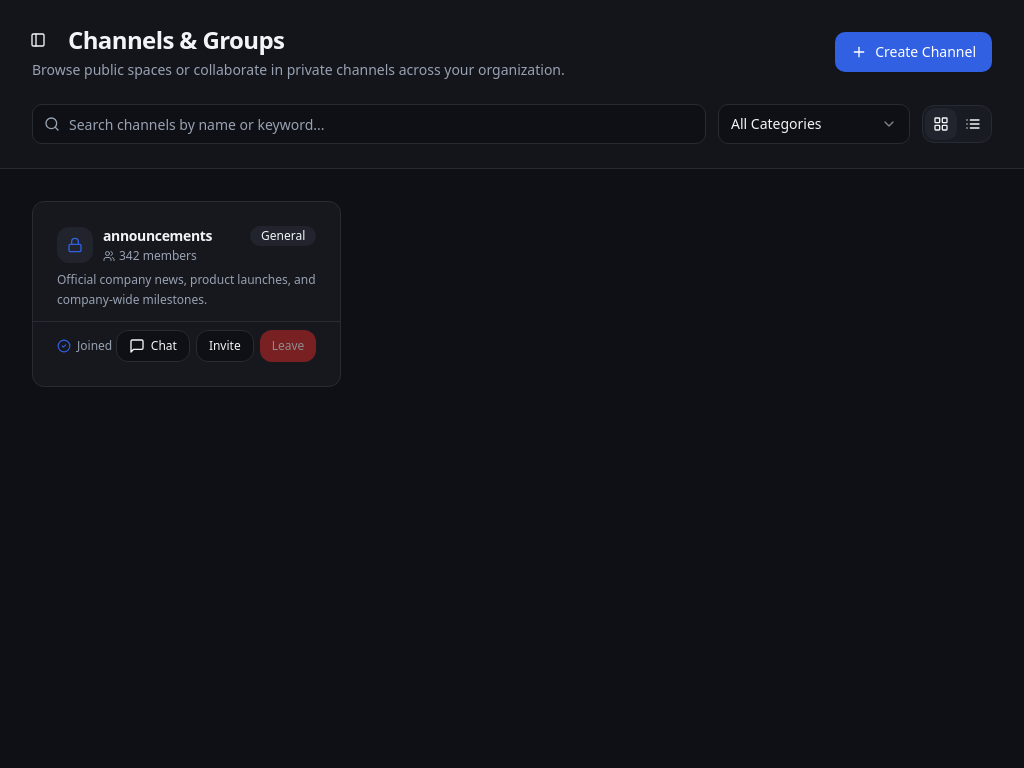
Test: Channels and navigation › offers owner invitations and disables owner leave
Expected: the button "Leave" is disabled, 260,330 -> 316,362
Click the button "Invite": (225,346) 196,330 -> 254,362
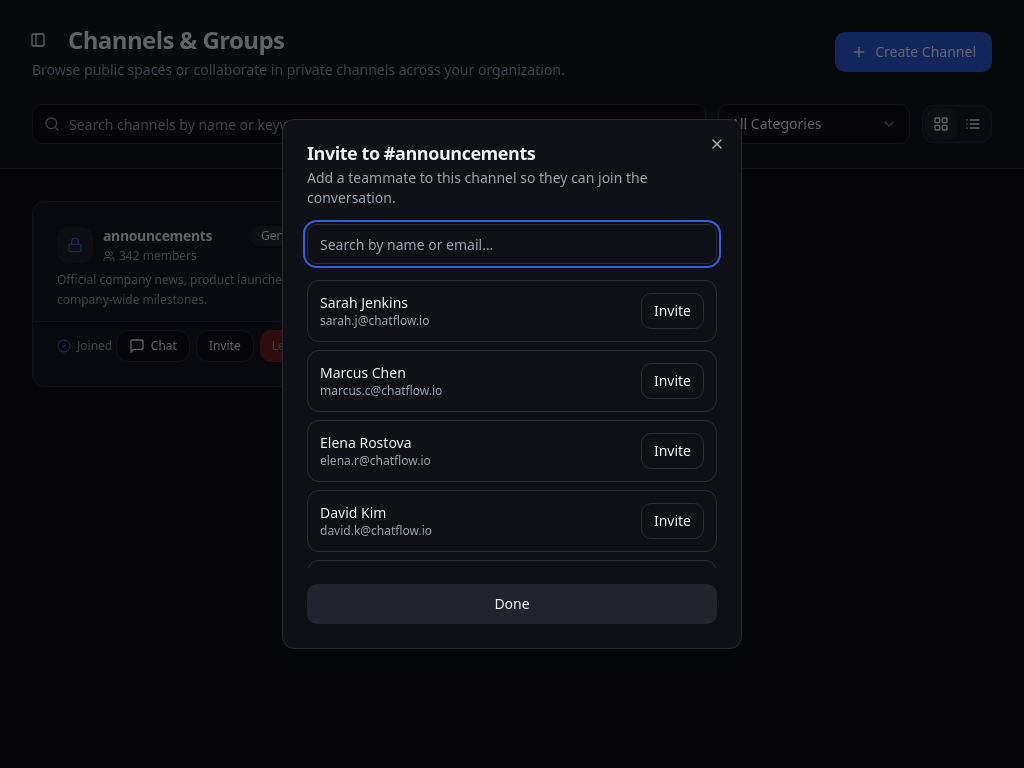
Click the button with aria-label "Invite Sarah Jenkins": (672,311) 641,293 -> 704,329
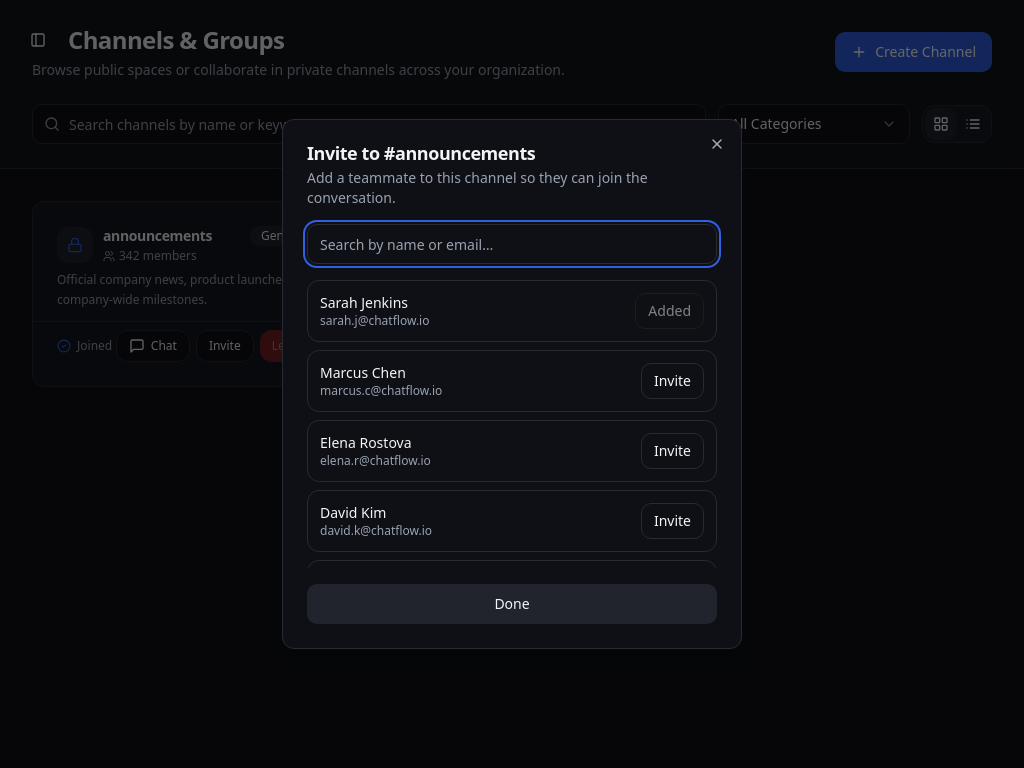
Expected: the button with aria-label "Invite Sarah Jenkins" reads "Added", 635,293 -> 704,329
